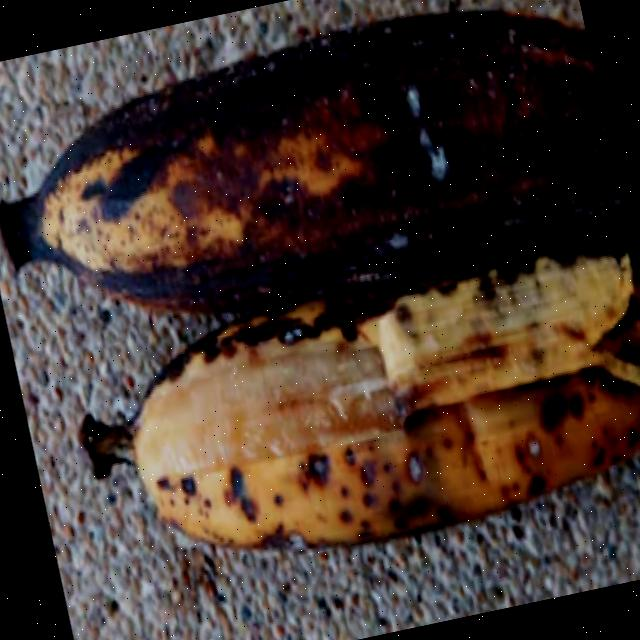Rotten: (11, 235, 640, 626), (0, 0, 628, 360)
